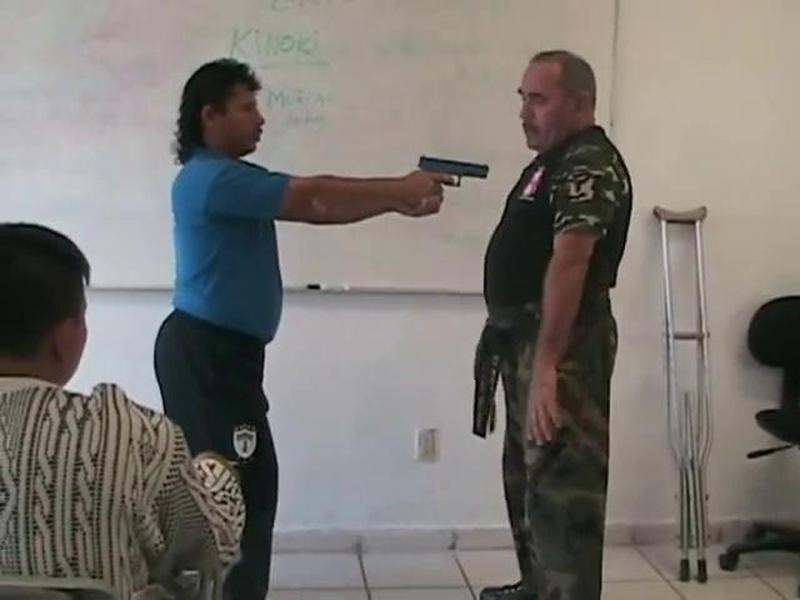Pistola: (412, 150, 492, 200)
